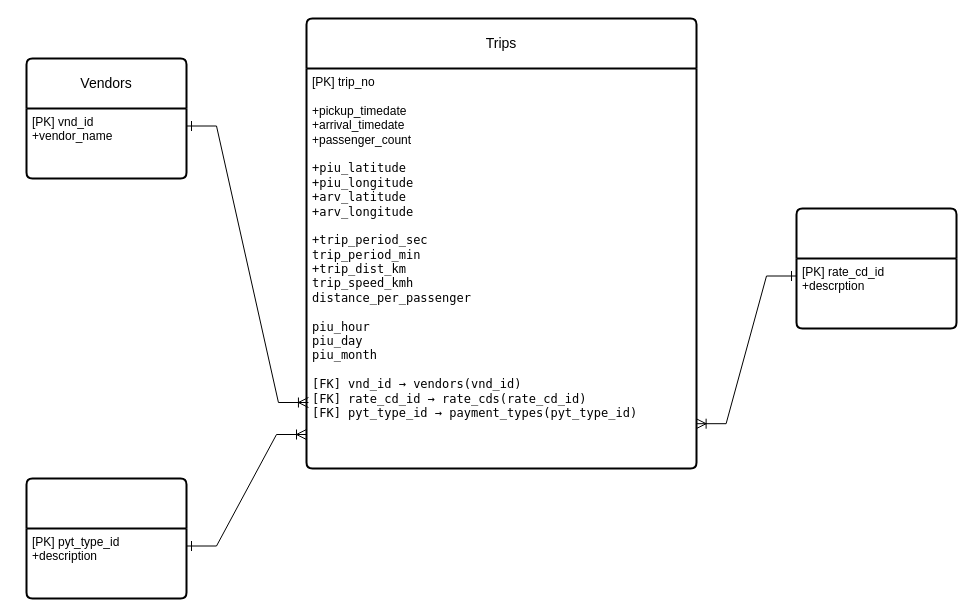
This 975x616 diagram has some shape labels left out. Each missing label, with the box of its shape:
payment_types: (25, 477, 187, 599)
rate_cds: (795, 207, 957, 329)
